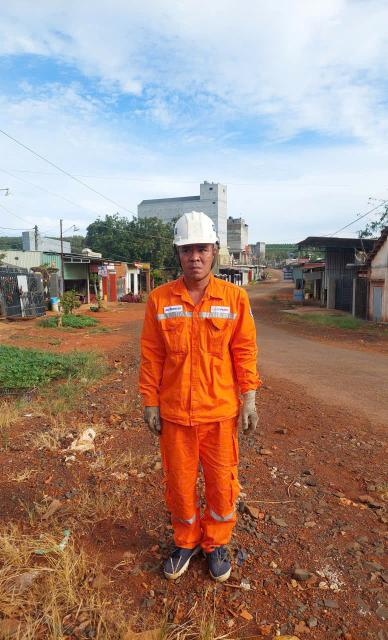gloves: (224, 384, 269, 434), (133, 403, 171, 439)
helmet: (141, 208, 231, 252)
shoes: (148, 525, 202, 588), (208, 540, 240, 583)
